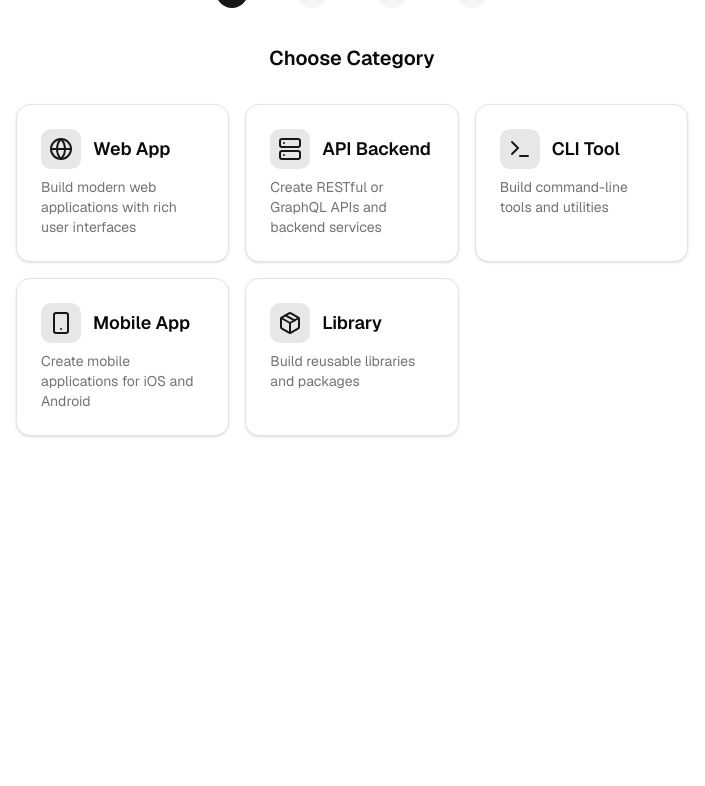
Test: PrdWizard › allows going back from step 2 to step 1
The width and height of the screenshot is (705, 786).
Click the button with test id "category-card-web-app": x=123, y=183 [16,104,229,262]
(page scrolled)
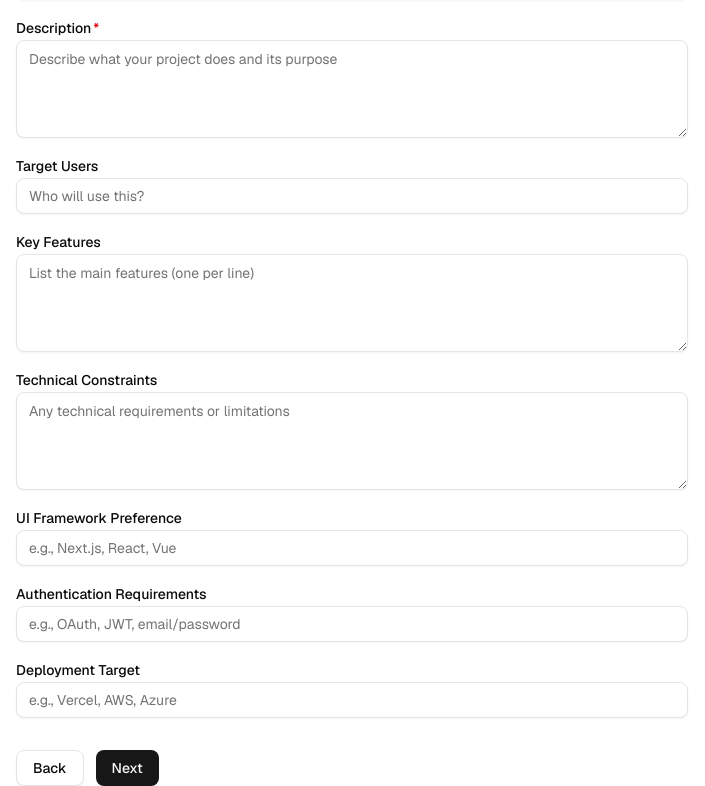
Click the button "Back": x=50, y=768 [16,750,84,785]
(page scrolled)
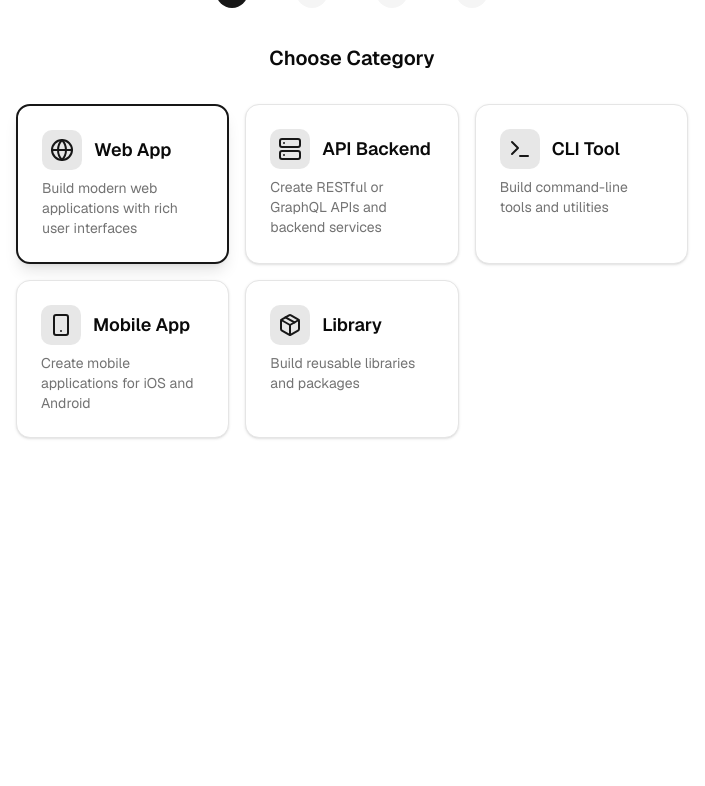
Expected: the heading "Choose Category" is shown, [269,45,435,71]
